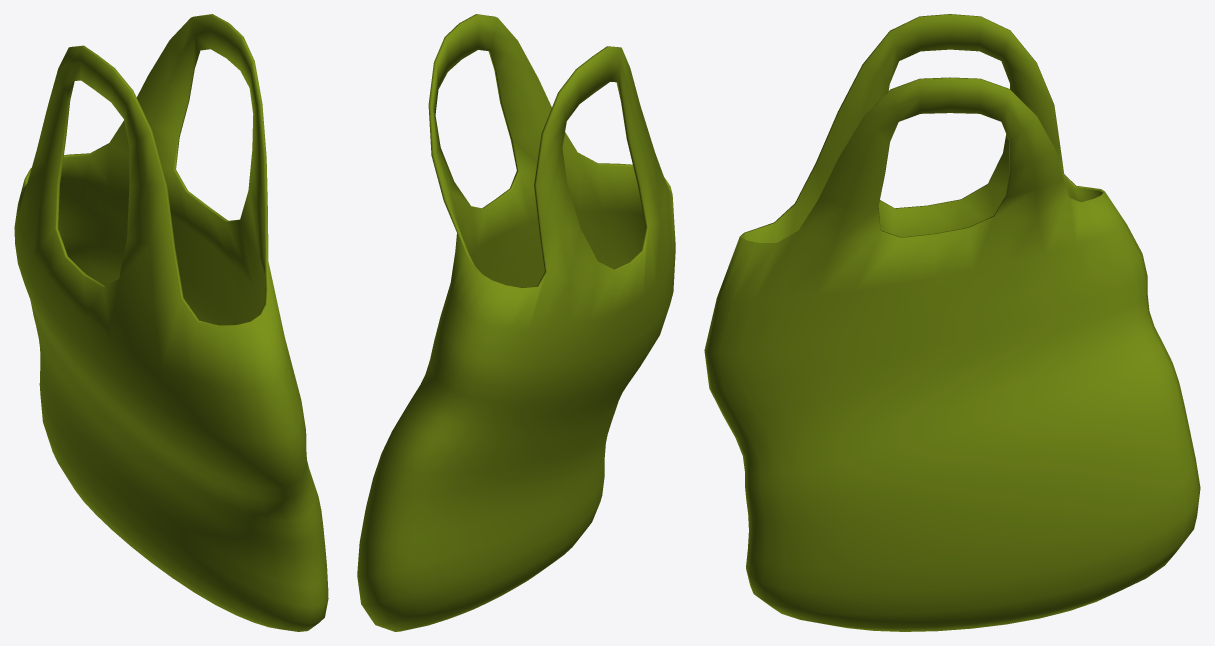
The model's file is BolsaPlastico_06.fbx.
The picture shows the model from 3 angles, left to right: view 1: azimuth 30°, elevation 25°; view 2: azimuth 150°, elevation 25°; view 3: azimuth 270°, elevation 25°; orthographic projection. The views are drawn at different scales.
Visible parts, largest first — view 1: BolsaPlastico_06; view 2: BolsaPlastico_06; view 3: BolsaPlastico_06.
Boxes of the visible parts, x1=… form: BolsaPlastico_06: x1=14, y1=14, x2=328, y2=631; BolsaPlastico_06: x1=357, y1=14, x2=675, y2=631; BolsaPlastico_06: x1=704, y1=14, x2=1200, y2=631.
Size of the model in its own units: 26.29 by 72.23 by 59.24.
